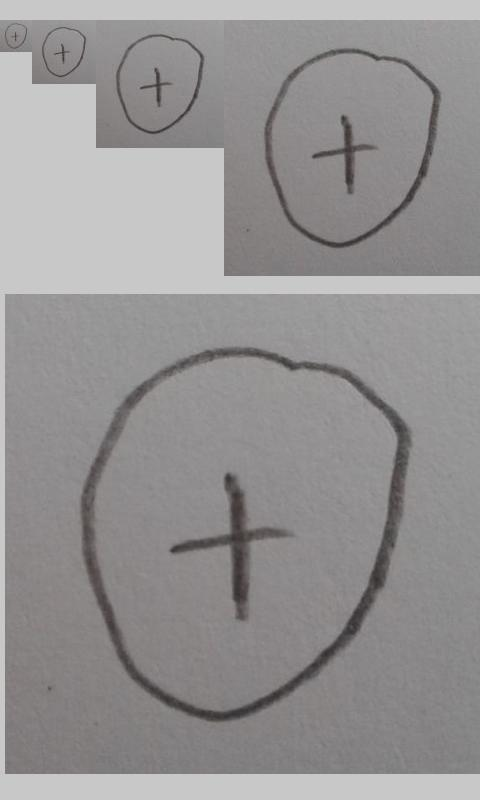button: (78, 344, 412, 723), (264, 48, 441, 247), (116, 33, 206, 135), (41, 26, 86, 78), (4, 23, 28, 49)
